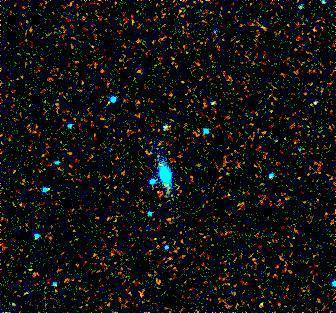star: (7, 285, 37, 313)
